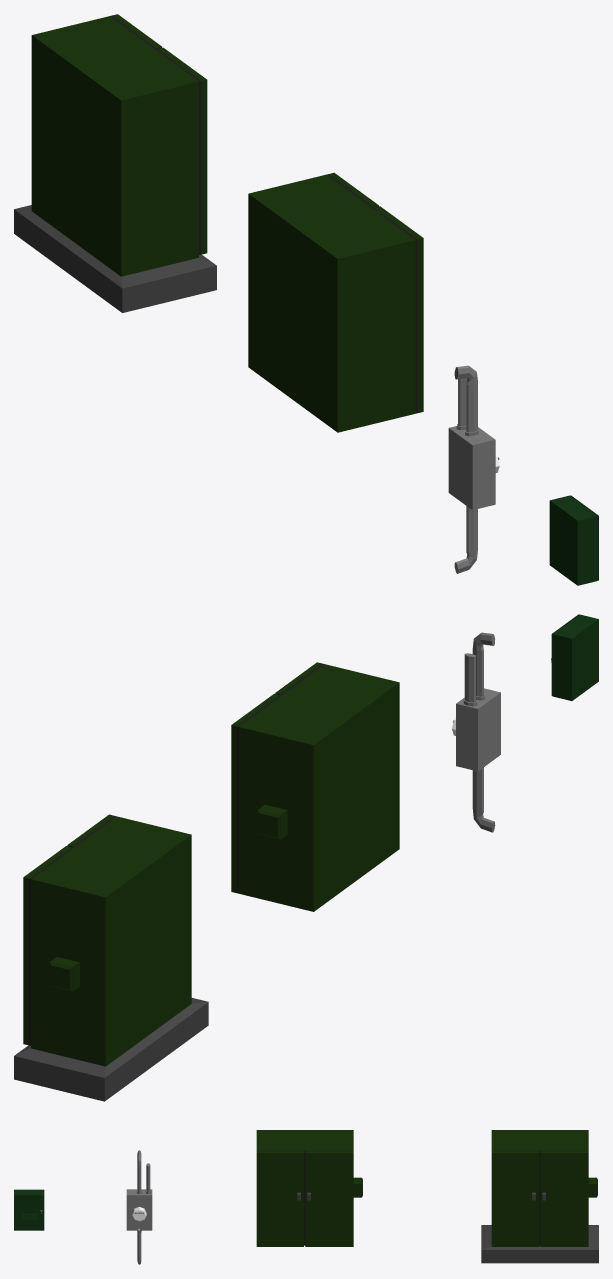
Rendered from ElectricalUtilityBox1.fbx.
The picture shows the model from 3 angles, top to bottom: view 1: azimuth 30°, elevation 25°; view 2: azimuth 150°, elevation 25°; view 3: azimuth 270°, elevation 25°; orthographic projection. The views are drawn at different scales.
Visible parts, largest first — view 1: UtilityBox1, UtlityBox2, ElectricalMeterBox, ElectricalCab1; view 2: UtilityBox1, UtlityBox2, ElectricalMeterBox, ElectricalCab1; view 3: UtilityBox1, UtlityBox2, ElectricalMeterBox, ElectricalCab1.
Boxes of the visible parts, x1,y1,x2,y2 form: UtilityBox1: [14, 14, 216, 312]; UtlityBox2: [248, 172, 423, 432]; ElectricalMeterBox: [448, 365, 499, 573]; ElectricalCab1: [549, 495, 598, 585]; UtilityBox1: [14, 814, 208, 1101]; UtlityBox2: [231, 662, 399, 911]; ElectricalMeterBox: [452, 632, 500, 832]; ElectricalCab1: [551, 614, 598, 700]; UtilityBox1: [481, 1130, 598, 1263]; UtlityBox2: [256, 1130, 362, 1246]; ElectricalMeterBox: [126, 1150, 152, 1264]; ElectricalCab1: [14, 1189, 44, 1230].
Bounding box in the file's own units: 322 × 734 × 3008.
